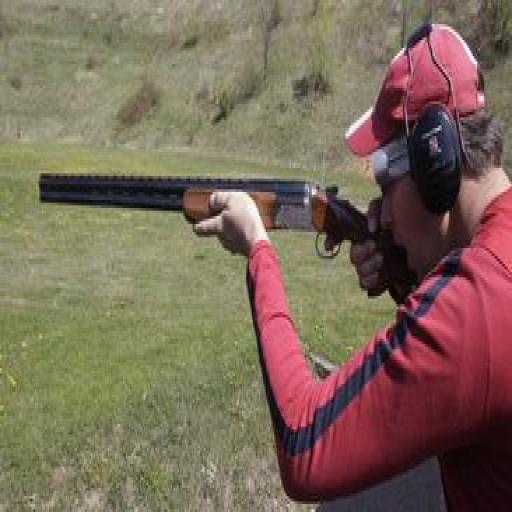shooting: (183, 19, 511, 509)
